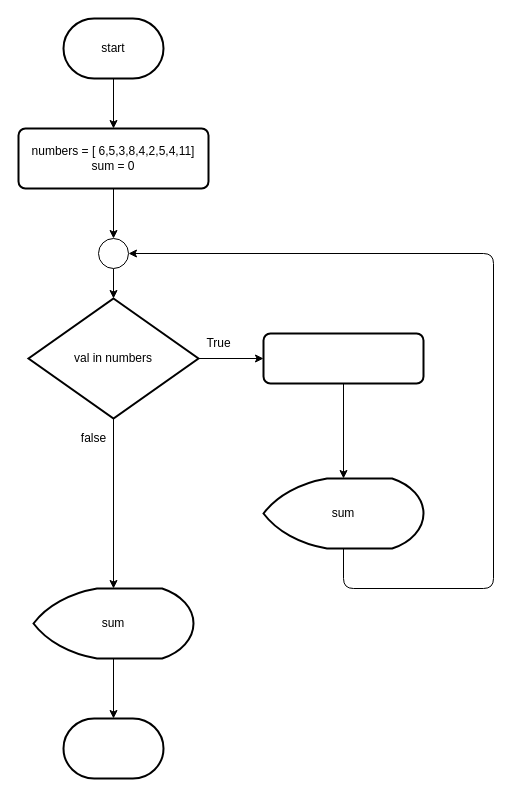
Some shapes in this 519 by 796 pixel diagram are drawn without their labels. Each missing label, with the centre of its shape:
"End" belongs at point (113, 748).
"sum += val" belongs at point (343, 358).
